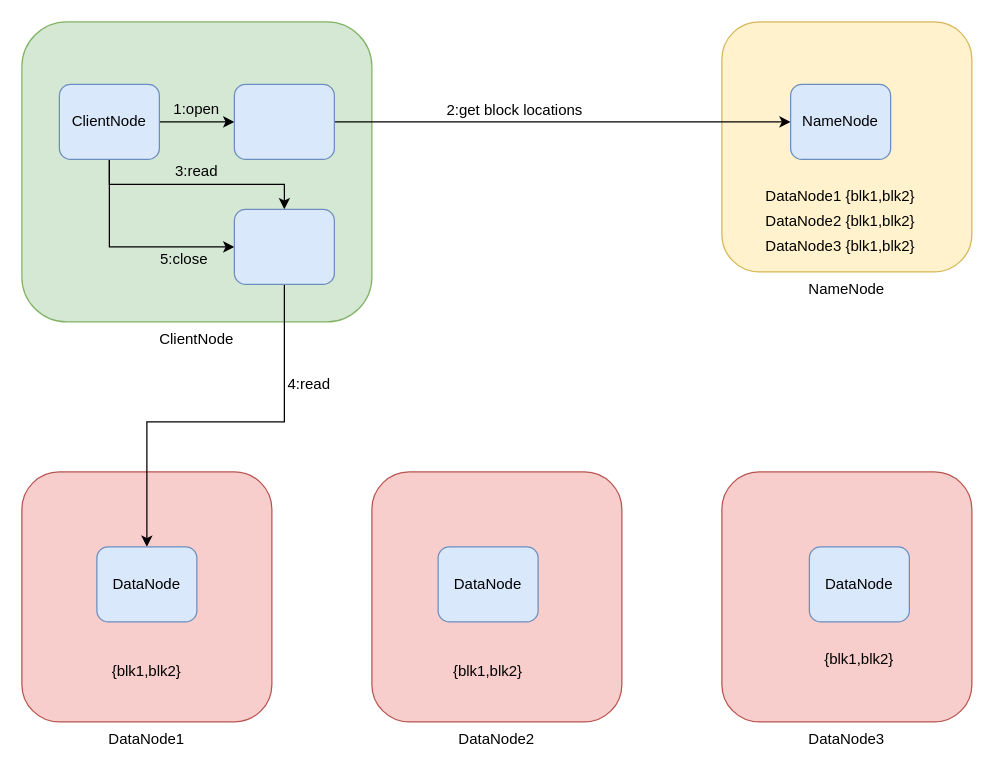
Some shapes in this 994 by 770 pixel diagram are drawn without their labels. Here are the shapes that lost their labels. From the top down, the centre of each, then its label:
(283,121): Distributed FileSystem
(283,246): FSData InputStream
